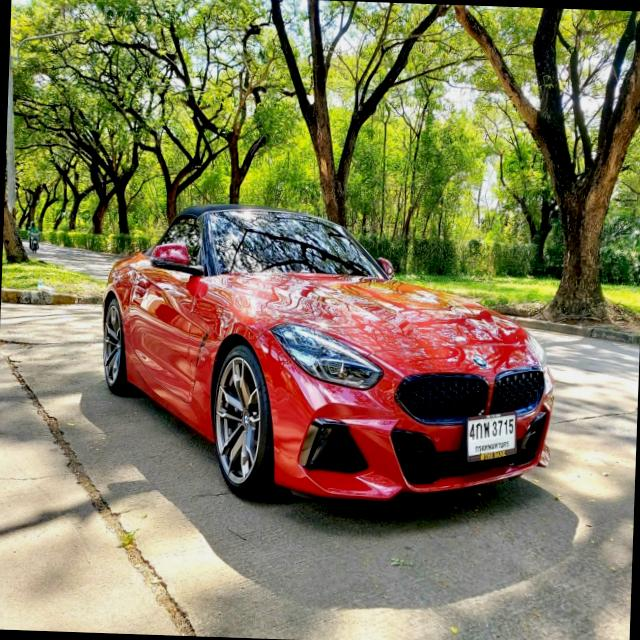license_plate: (462, 410, 520, 467)
